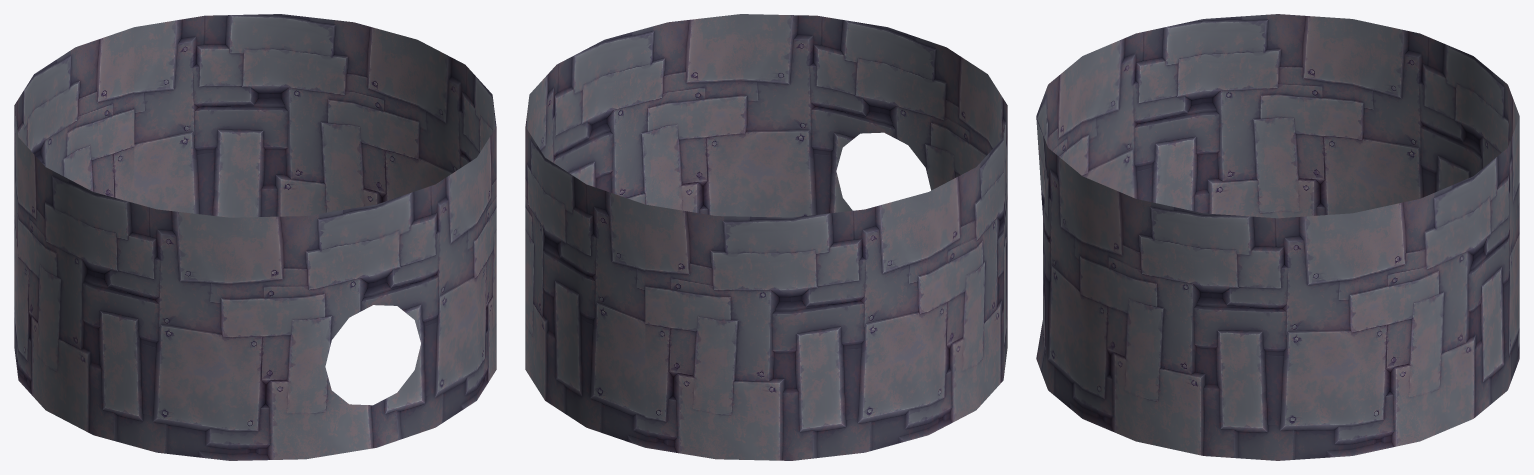
The model's file is mesh_paredCilindroAgujero.fbx.
3 renders of one model, left to right at view 1: azimuth 30°, elevation 25°; view 2: azimuth 150°, elevation 25°; view 3: azimuth 270°, elevation 25°, orthographic.
Parts seen in each view (by area): view 1: mesh_paredCilindroAgujero; view 2: mesh_paredCilindroAgujero; view 3: mesh_paredCilindroAgujero.
Part boxes in pixels (x1=…): mesh_paredCilindroAgujero: x1=14, y1=14, x2=496, y2=460; mesh_paredCilindroAgujero: x1=525, y1=14, x2=1007, y2=460; mesh_paredCilindroAgujero: x1=1036, y1=14, x2=1519, y2=460.
Bounding box in the file's own units: 6423 × 3557 × 6423.
